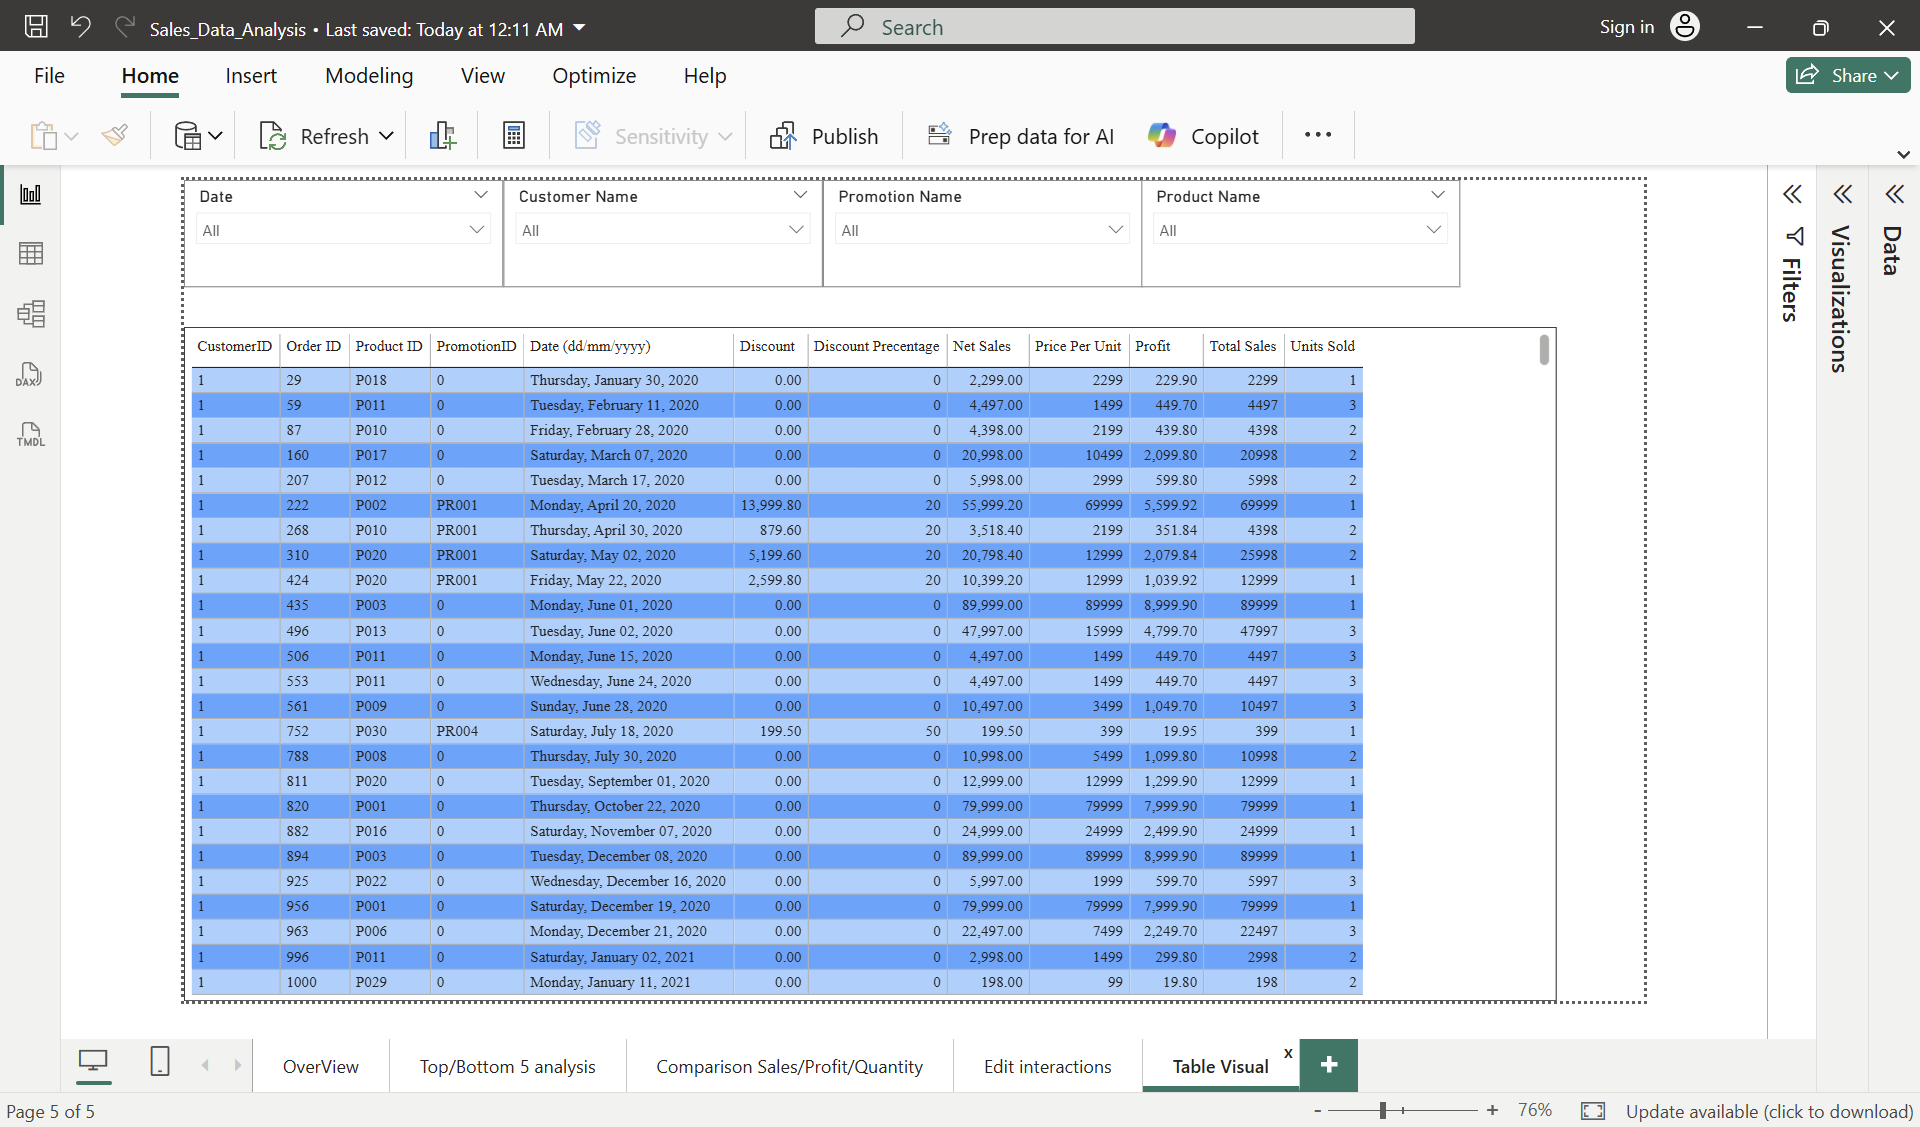

The page's visual inventory and layout, read from the dashboard file:
{"tool":"powerbi","page":{"name":"Table Visual","canvas":[1280,720],"ordinal":4},"visuals":[{"type":"tableEx","fields":{"Values":["Fact Table.CustomerID","Fact Table.Order ID","Fact Table.Product ID","Fact Table.PromotionID","Fact Table.Date (dd/mm/yyyy)","Fact Table.Discount","Fact Table.Discount Precentage","Fact Table.Net Sales  ","Fact Table.Price Per Unit","Fact Table.Profit","Fact Table.Total Sales","Fact Table.Units Sold"]},"box":[0,128.6,1204.3,591.4],"z":0},{"type":"slicer","fields":{"Values":["Date Table 1.Date"]},"box":[0,0,280,94.3],"z":1},{"type":"slicer","fields":{"Values":["Dim Customers.Customer Name"]},"box":[280,0,280,94.3],"z":2},{"type":"slicer","fields":{"Values":["Dim Product.Product Name"]},"box":[840,0,280,94.3],"z":3},{"type":"slicer","fields":{"Values":["Dim Promotion.Promotion Name"]},"box":[560,0,280,94.3],"z":4}]}

Visuals, with their boxes on the page's 1280x720 design canvas (x1, y1, x2, y2). These are canvas units, not pixel positions in the 1920x1127 screenshot, which may show the page scaled, cropped or inside an application window:
tableEx - Fact Table.CustomerID x Fact Table.Order ID: (left=0, top=129, right=1204, bottom=720)
slicer - Date Table 1.Date: (left=0, top=0, right=280, bottom=94)
slicer - Dim Customers.Customer Name: (left=280, top=0, right=560, bottom=94)
slicer - Dim Product.Product Name: (left=840, top=0, right=1120, bottom=94)
slicer - Dim Promotion.Promotion Name: (left=560, top=0, right=840, bottom=94)
